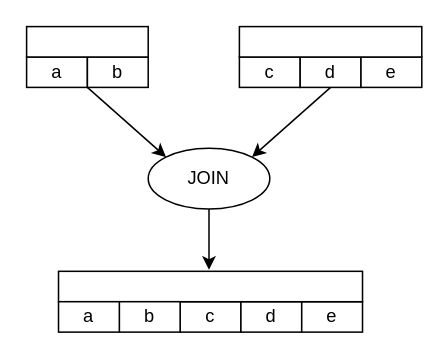
Some shapes in this 448 by 359 pixel diagram are drawn without their labels. Each missing label, with the centre of its shape:
Результат: pixel 210 286
Таблица 1: pixel 86 41
Таблица 2: pixel 330 41
